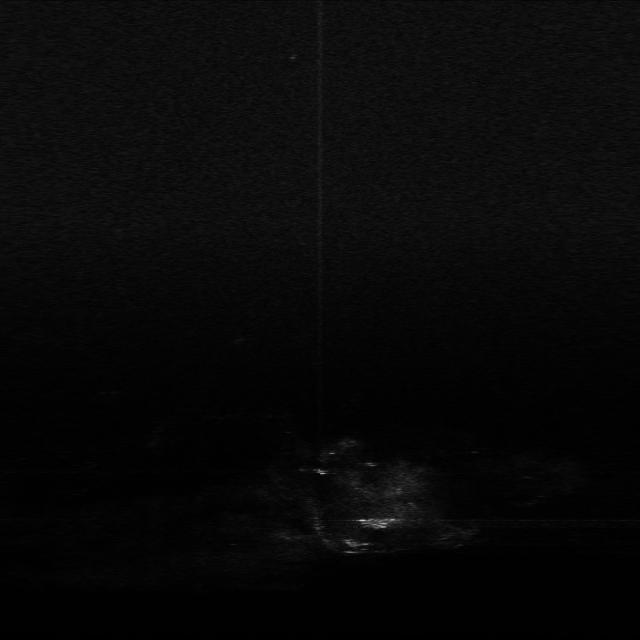rov: (357, 514, 399, 530)
